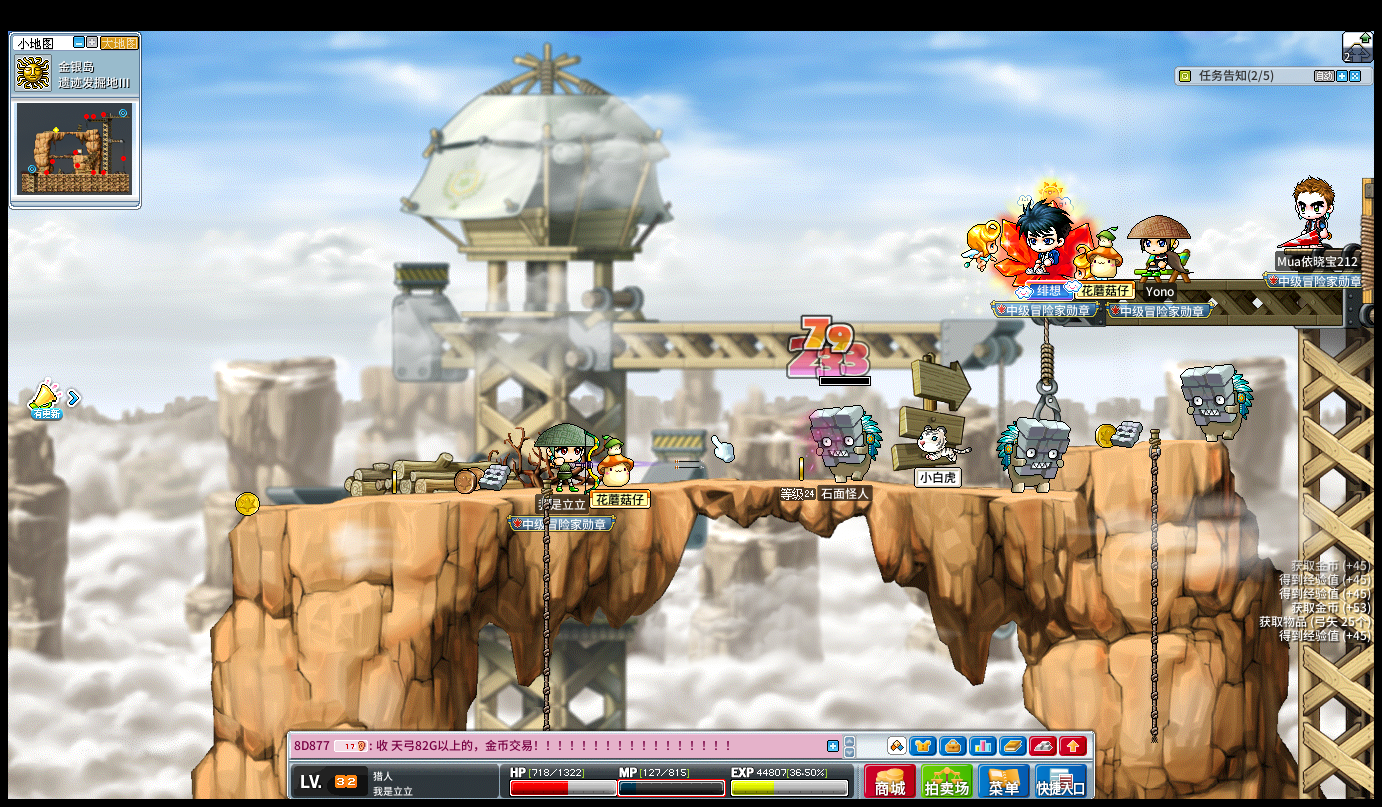floor: (226, 474, 1127, 501), (1077, 434, 1221, 451)
monster: (996, 416, 1070, 495), (1179, 364, 1253, 442), (809, 405, 884, 481)
rope: (1145, 427, 1161, 750), (539, 481, 551, 690)
